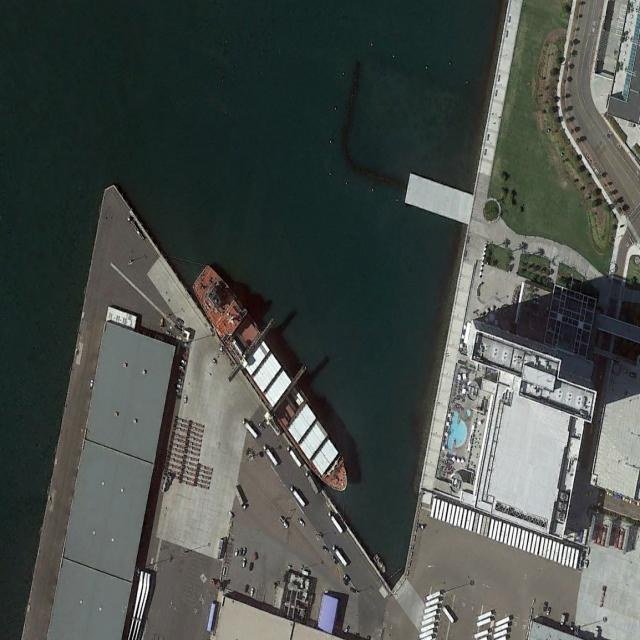Cargo: (187, 257, 360, 503)
